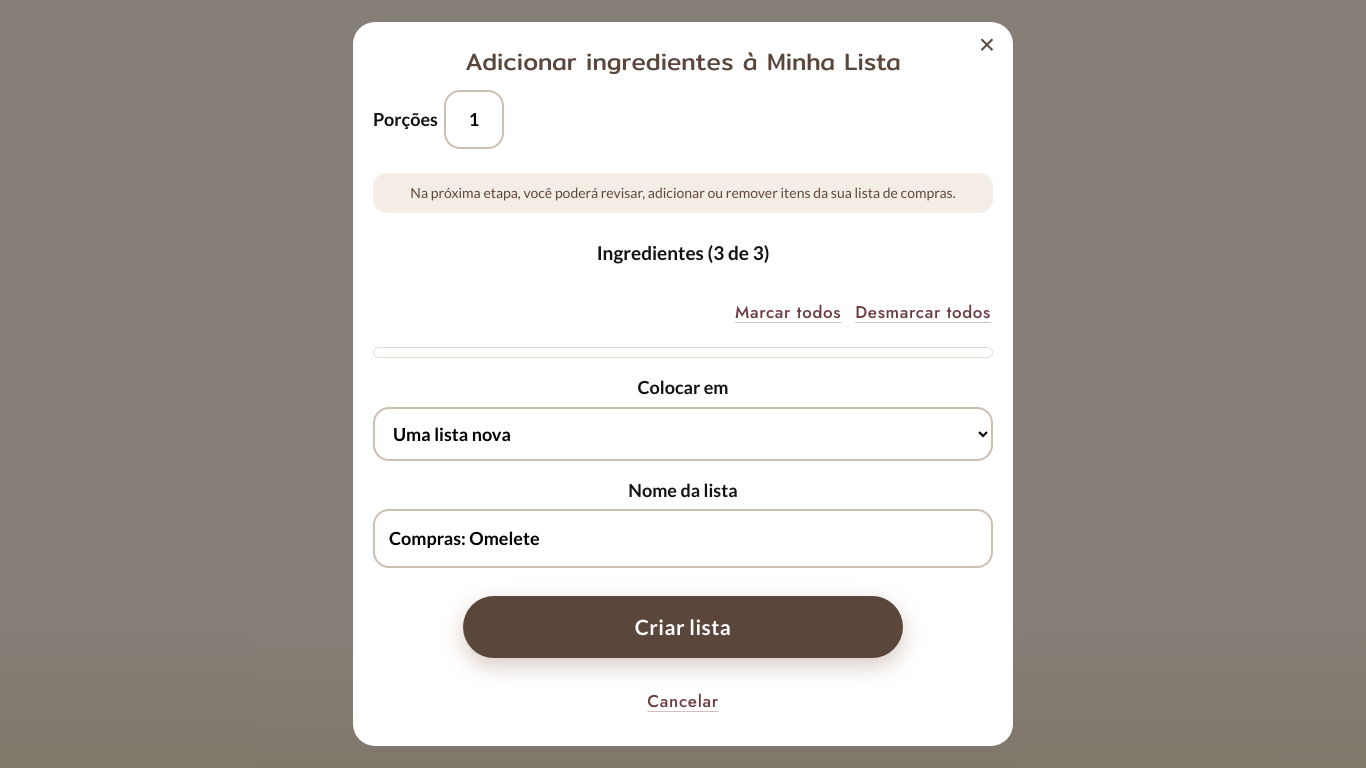
it: Montar lista com minhas receitas › o campo de porções pode ser apagado e aceita qualquer inteiro (ex.: 10)
Clear the field labelled "Porções" at {"x": 474, "y": 119}, box top-left (444, 90), bottom-right (504, 149)
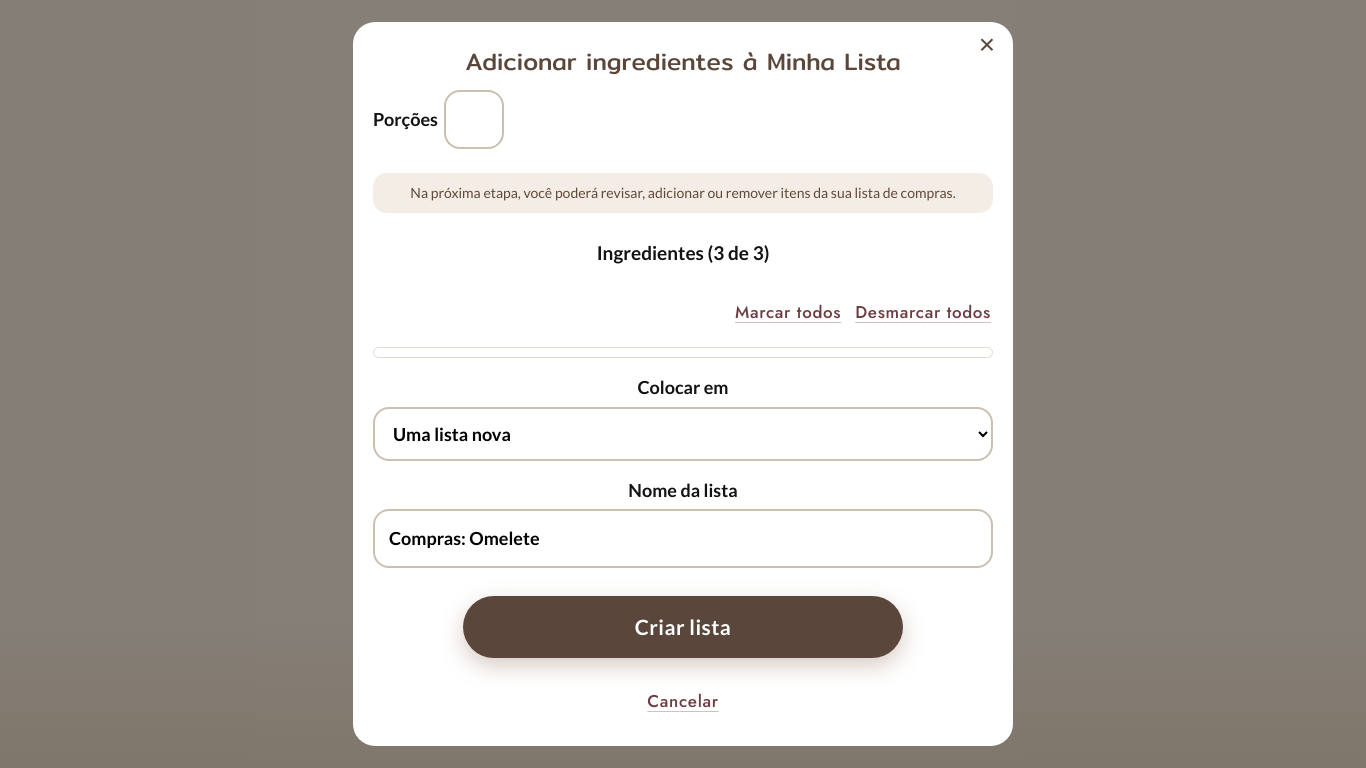
Type "10" into the field labelled "Porções" at {"x": 474, "y": 119}, box top-left (444, 90), bottom-right (504, 149)
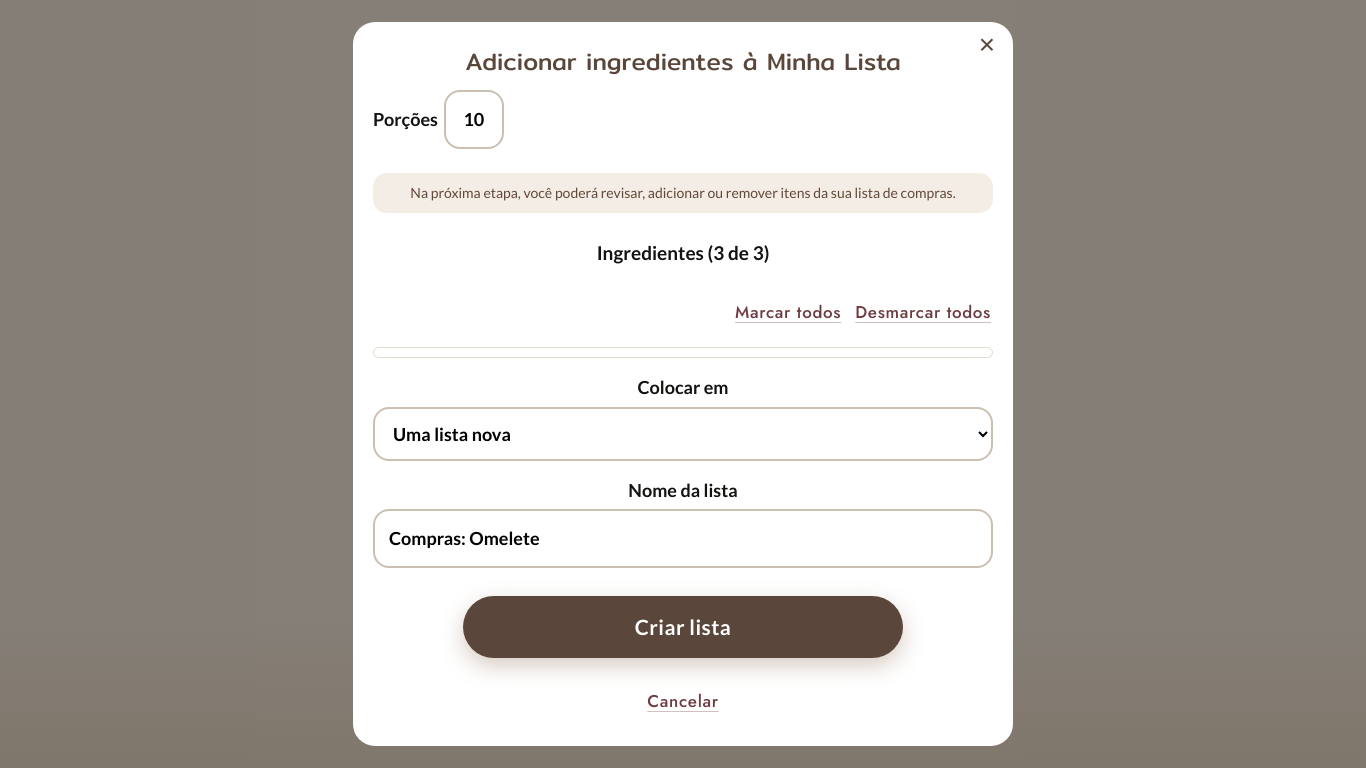
Replace the text in the field labelled "Porções" with "2,5" at {"x": 474, "y": 119}, box top-left (444, 90), bottom-right (504, 149)
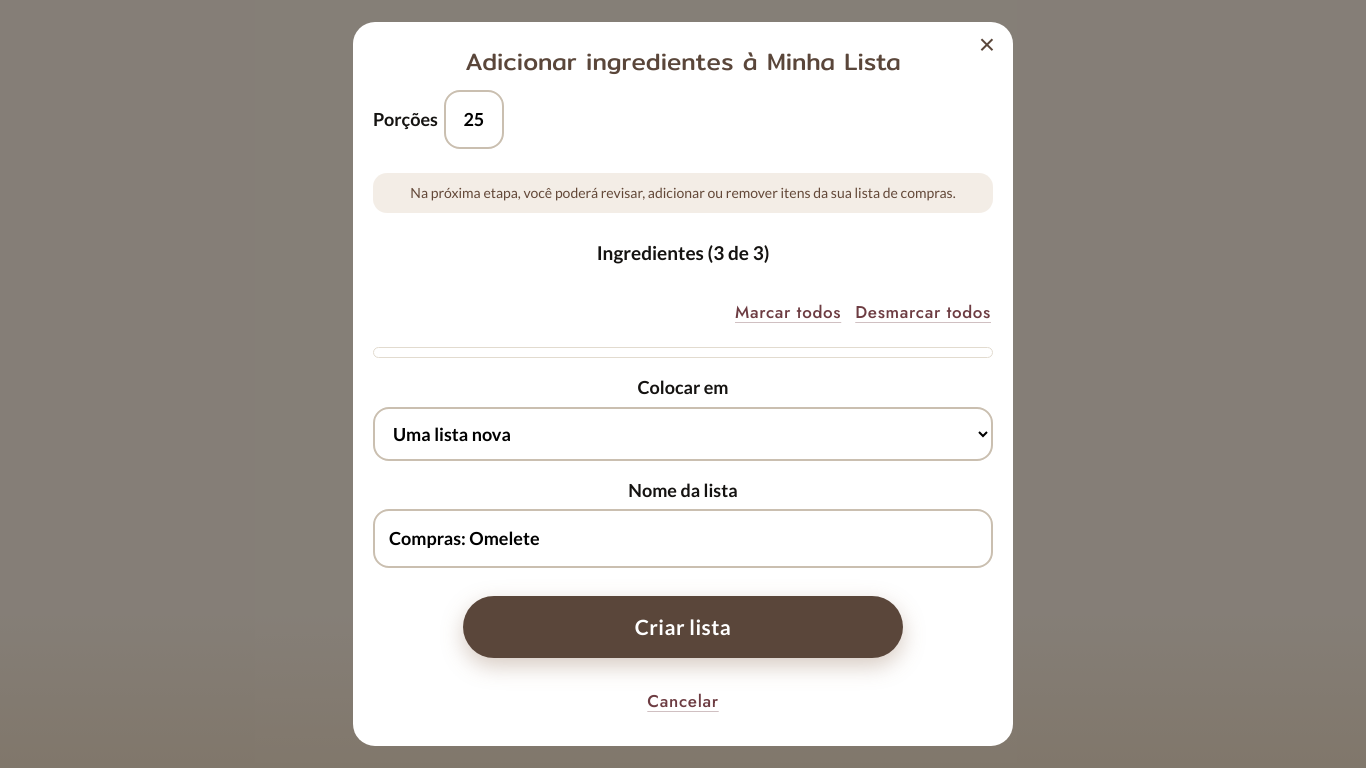
Expected: the field labelled "Porções" holds "25"
Clear the field labelled "Porções" at {"x": 474, "y": 119}, box top-left (444, 90), bottom-right (504, 149)
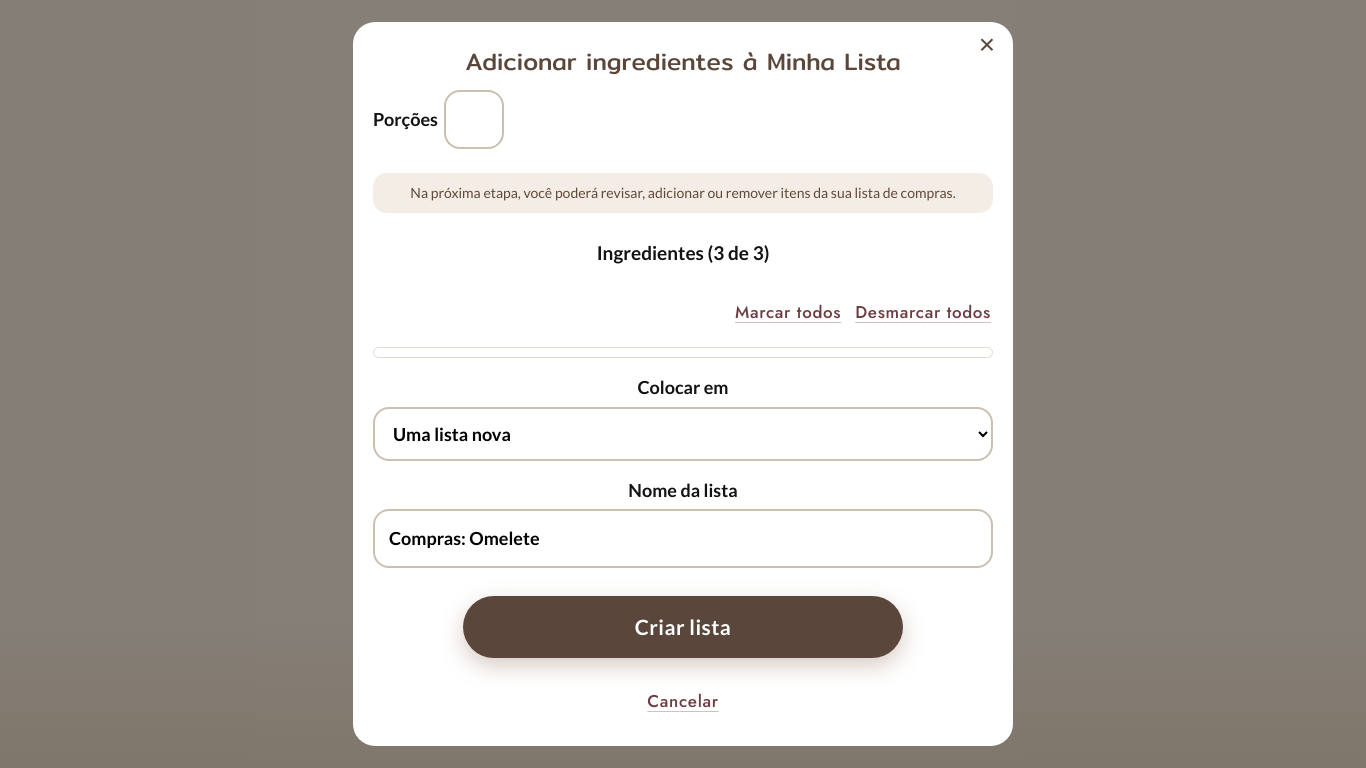
Leave the field labelled "Porções", box top-left (444, 90), bottom-right (504, 149)
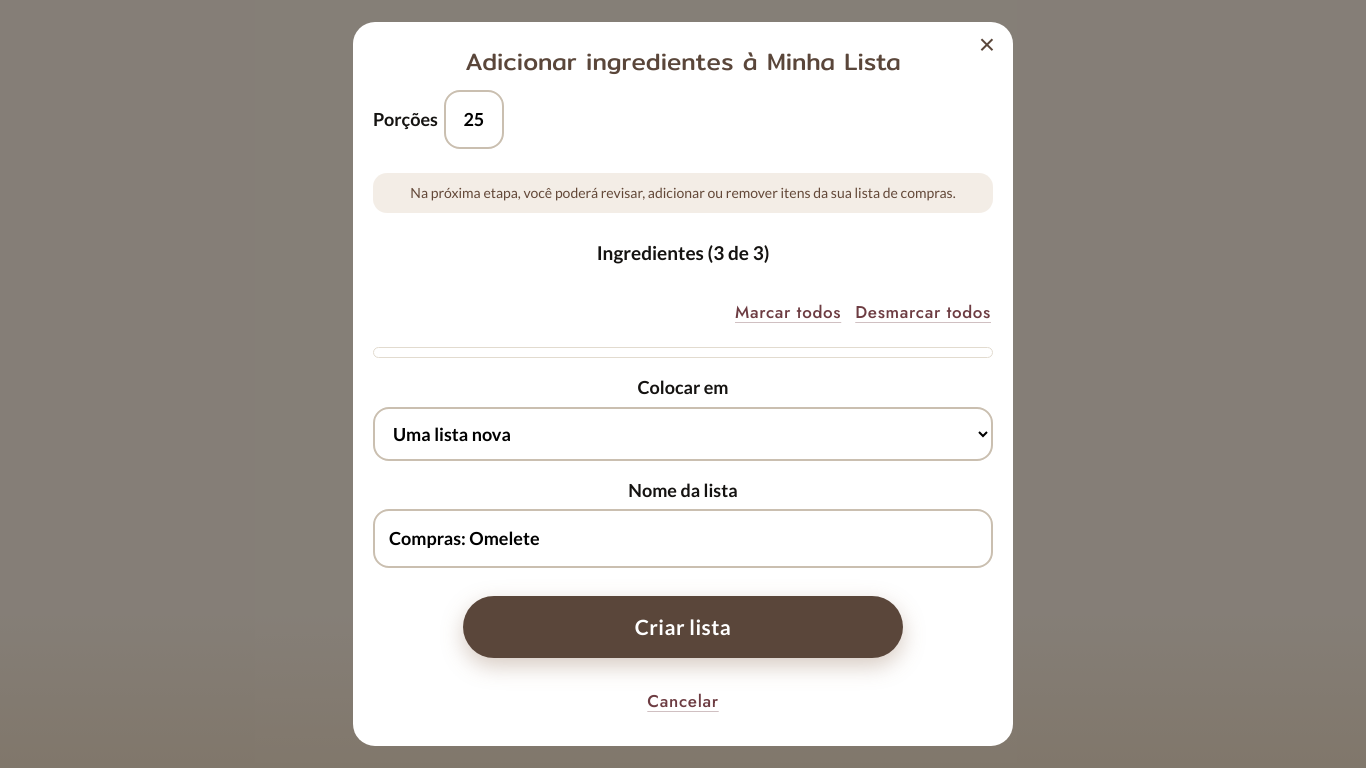
Expected: the field labelled "Porções" holds "25", top-left (444, 90), bottom-right (504, 149)
